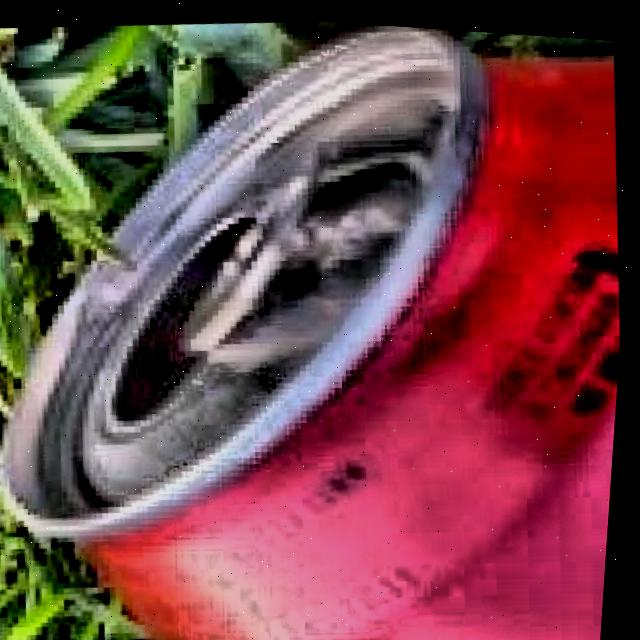metal: (0, 21, 624, 640)
